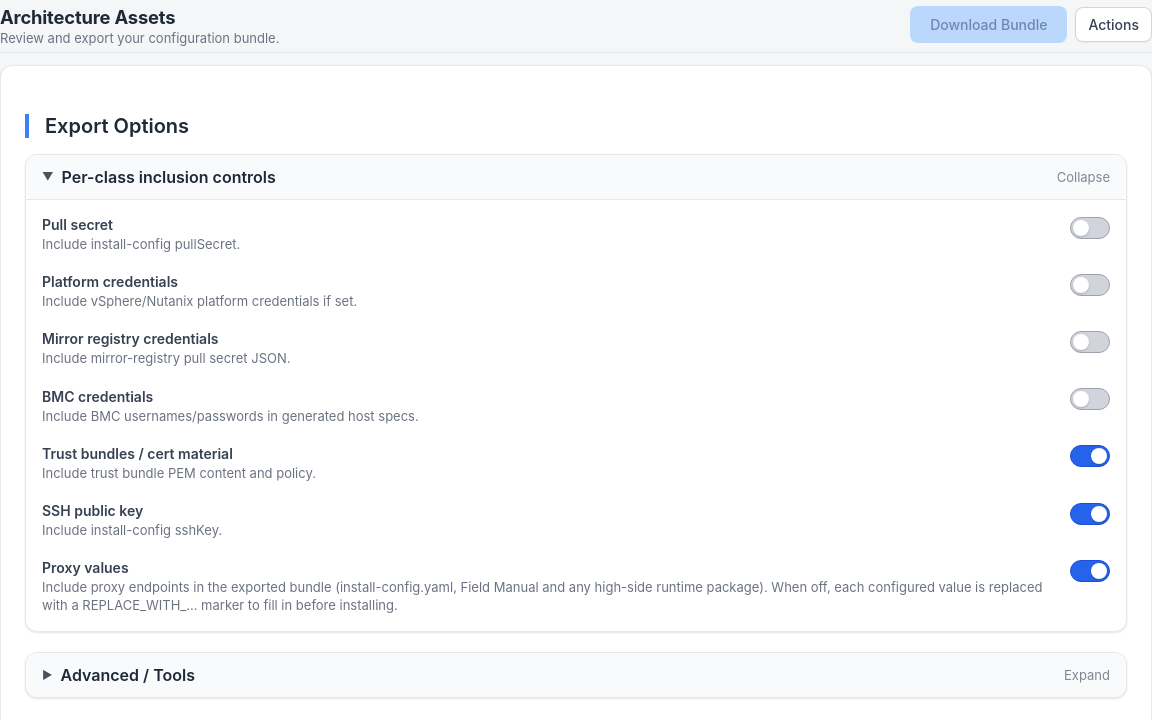
Test case: cluster FIPS defaults the installer tool variant but never forces it › does not disable the control — the user can still change it
Click the button "▶ Advanced / Tools Expand" at (128, 674), box x1=26 y1=652 x2=1126 y2=696
(page scrolled)
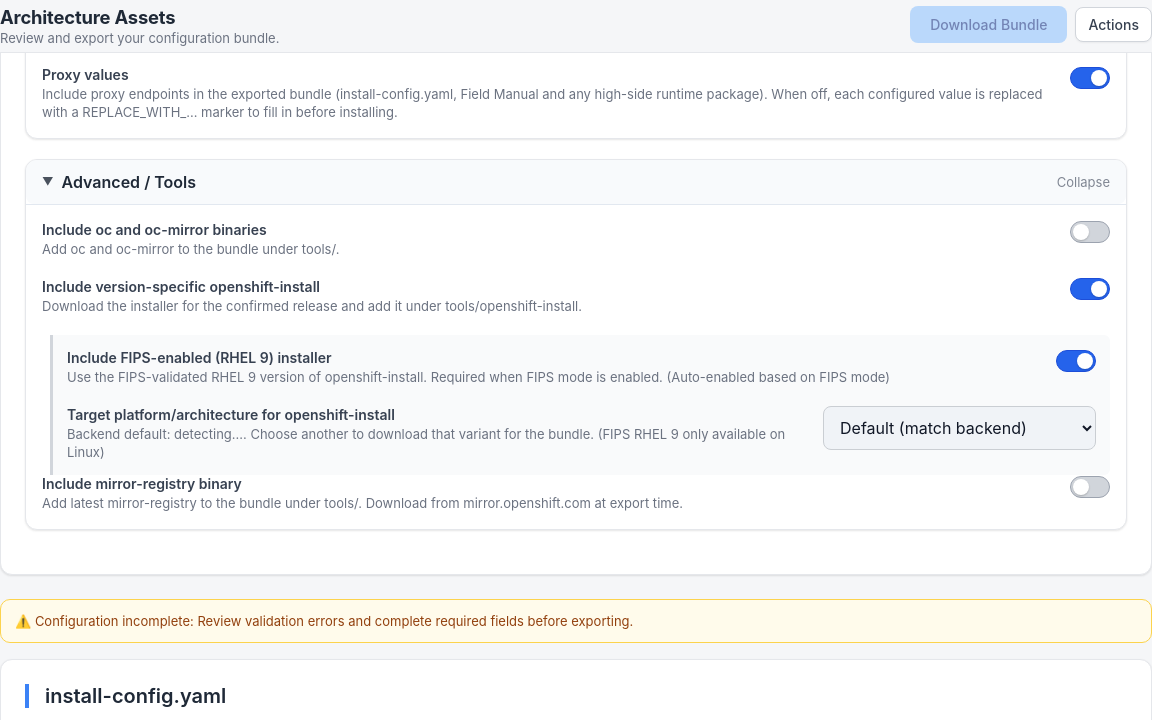
Expected: the switch named "Include FIPS-enabled installer" is enabled, x1=1056 y1=350 x2=1096 y2=372
